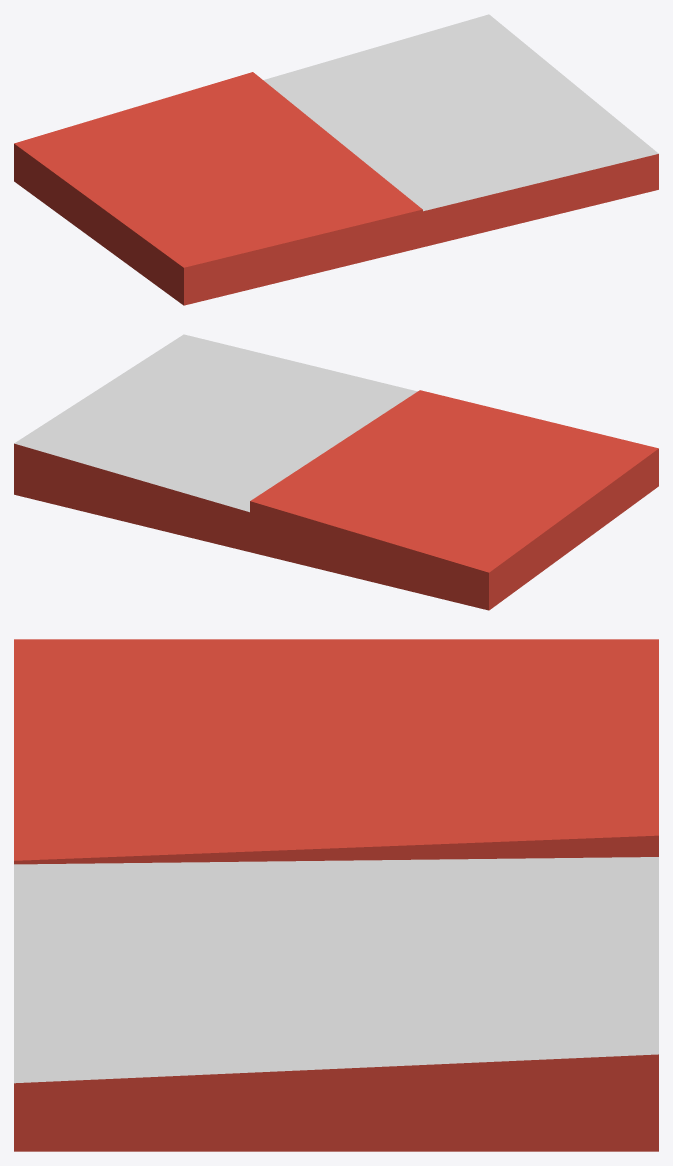
The model's file is Curb.fbx.
3 views of the same model, one above another, from view 1: azimuth 30°, elevation 25°; view 2: azimuth 150°, elevation 25°; view 3: azimuth 270°, elevation 25° (orthographic). The views are drawn at different scales.
Visible parts, largest first — view 1: Cube; view 2: Cube; view 3: Cube.
Part boxes in pixels (<box>): Cube: <box>14,14,658,305</box>; Cube: <box>14,334,658,610</box>; Cube: <box>14,639,658,1151</box>.
Size of the model in its own units: 517 by 53.19 by 320.
